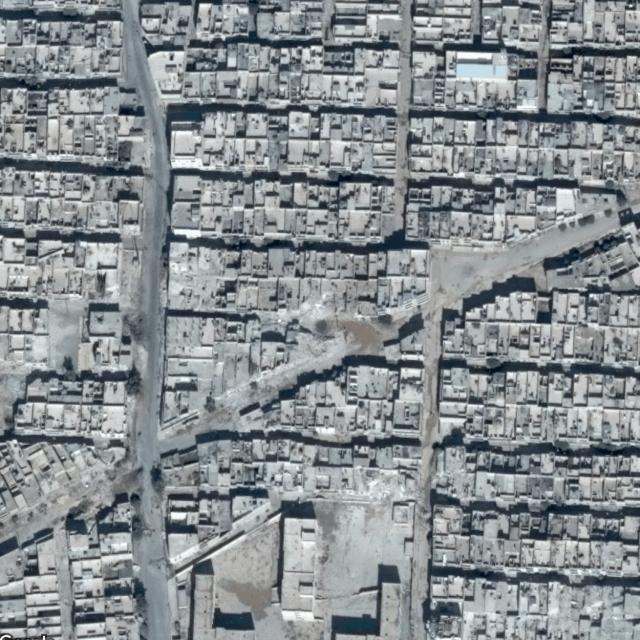damaged_building: (295, 296, 356, 360)
